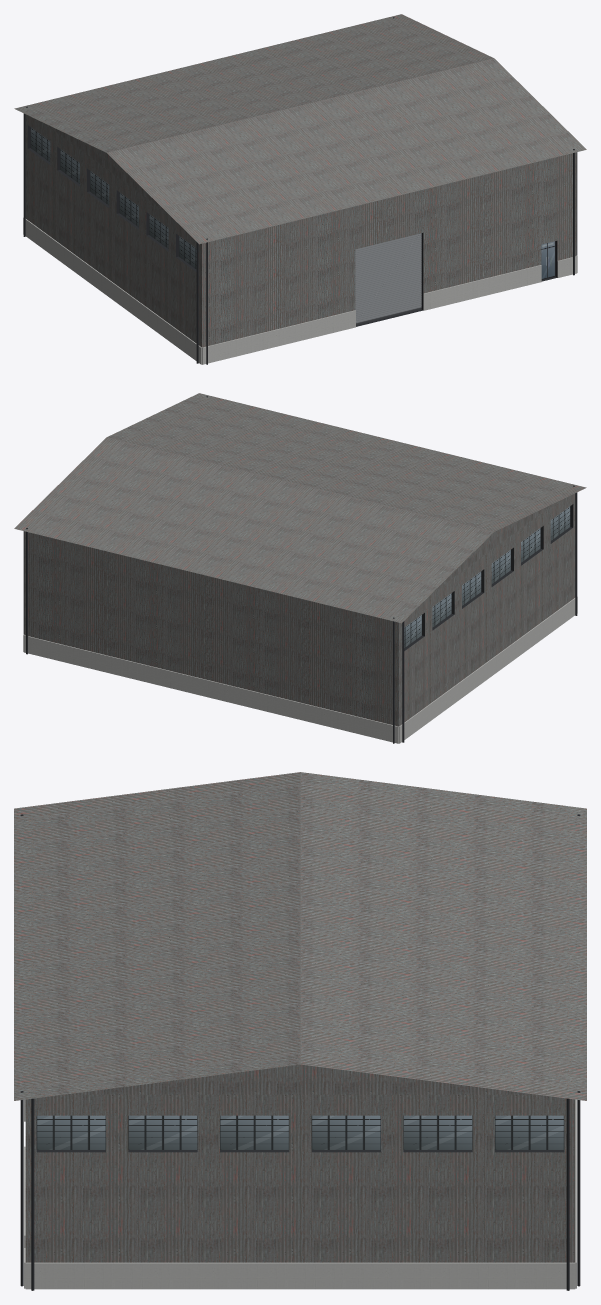
Rendered from edificio_05_nave_industrial.glb.
3 views of the same model, one above another, from view 1: azimuth 30°, elevation 25°; view 2: azimuth 150°, elevation 25°; view 3: azimuth 270°, elevation 25° (orthographic). The views are drawn at different scales.
Visible parts, largest first — view 1: EB05_nave_industrial; view 2: EB05_nave_industrial; view 3: EB05_nave_industrial.
Boxes of the visible parts, x1,y1,x2,y2 form: EB05_nave_industrial: (14,14,586,364); EB05_nave_industrial: (14,393,586,743); EB05_nave_industrial: (14,772,586,1290).
Bounding box in the file's own units: 24 × 8.76 × 19.87.
5 materials, 4 textured.
